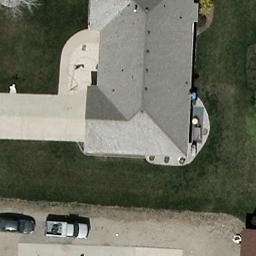car: (0, 216, 34, 235)
pickup: (47, 223, 91, 240)
